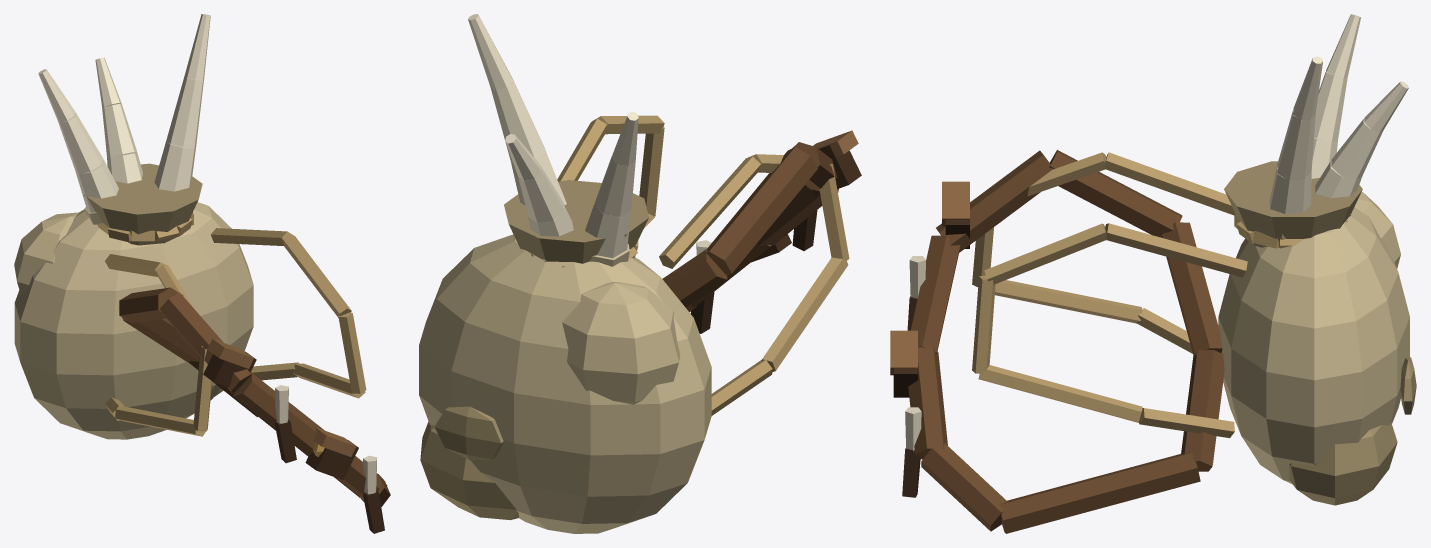
File: ivory_poacher_rig.glb
3 renders of one model, left to right at view 1: azimuth 30°, elevation 25°; view 2: azimuth 150°, elevation 25°; view 3: azimuth 270°, elevation 25°, orthographic. The views are drawn at different scales.
Parts seen in each view (by area): view 1: ivory_poacher_rig; view 2: ivory_poacher_rig; view 3: ivory_poacher_rig.
Boxes of the visible parts, <box> form: ivory_poacher_rig: <box>14,14,390,533</box>; ivory_poacher_rig: <box>419,14,861,533</box>; ivory_poacher_rig: <box>890,14,1416,533</box>.
Size of the model in its own units: 0.8802 by 1.46 by 1.52.
